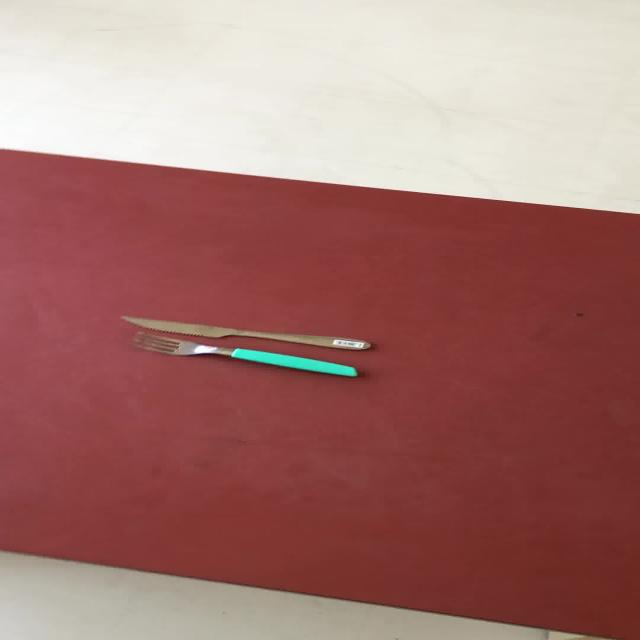fork: (130, 331, 358, 378)
knife fork: (118, 314, 371, 351)
